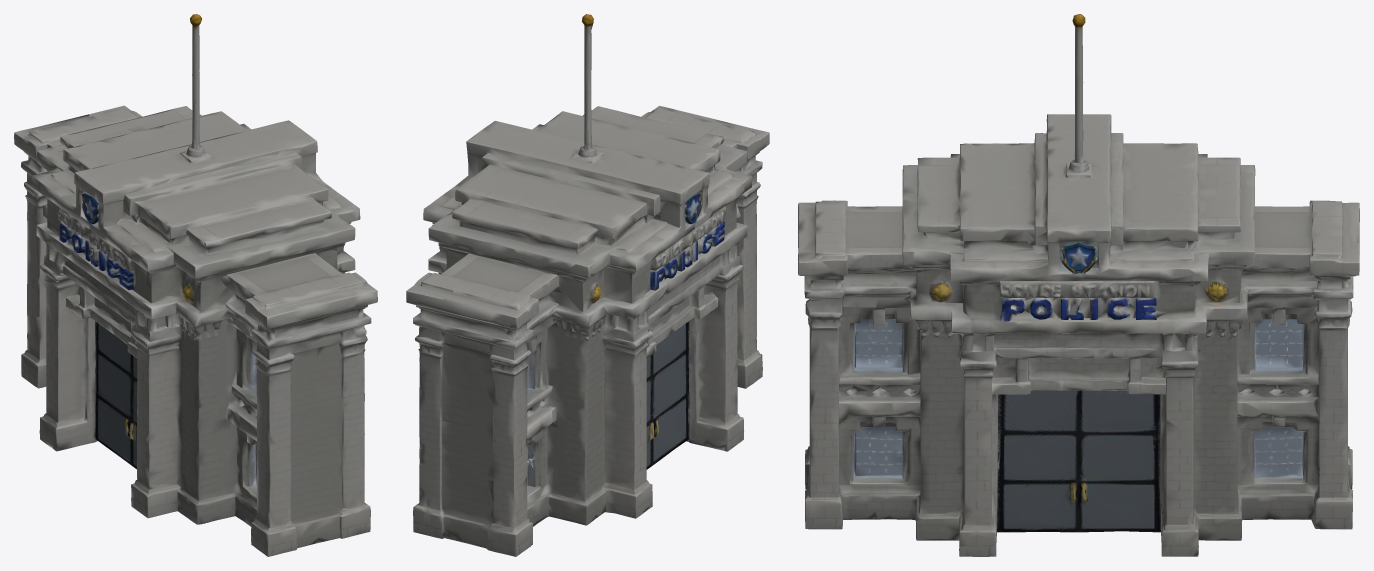
The model's file is police-station.glb.
3 renders of one model, left to right at view 1: azimuth 30°, elevation 25°; view 2: azimuth 150°, elevation 25°; view 3: azimuth 270°, elevation 25°, orthographic. The views are drawn at different scales.
Visible parts, largest first — view 1: tripo_node_5105711a-e68b-473d-9e08-a72017b97552; view 2: tripo_node_5105711a-e68b-473d-9e08-a72017b97552; view 3: tripo_node_5105711a-e68b-473d-9e08-a72017b97552.
Part boxes in pixels (x1=…): tripo_node_5105711a-e68b-473d-9e08-a72017b97552: x1=14, y1=14, x2=377, y2=556; tripo_node_5105711a-e68b-473d-9e08-a72017b97552: x1=406, y1=14, x2=769, y2=556; tripo_node_5105711a-e68b-473d-9e08-a72017b97552: x1=798, y1=14, x2=1359, y2=556.
Bounding box in the file's own units: 0.4907 × 0.958 × 1.
Materials: 1 (1 with a texture image).
